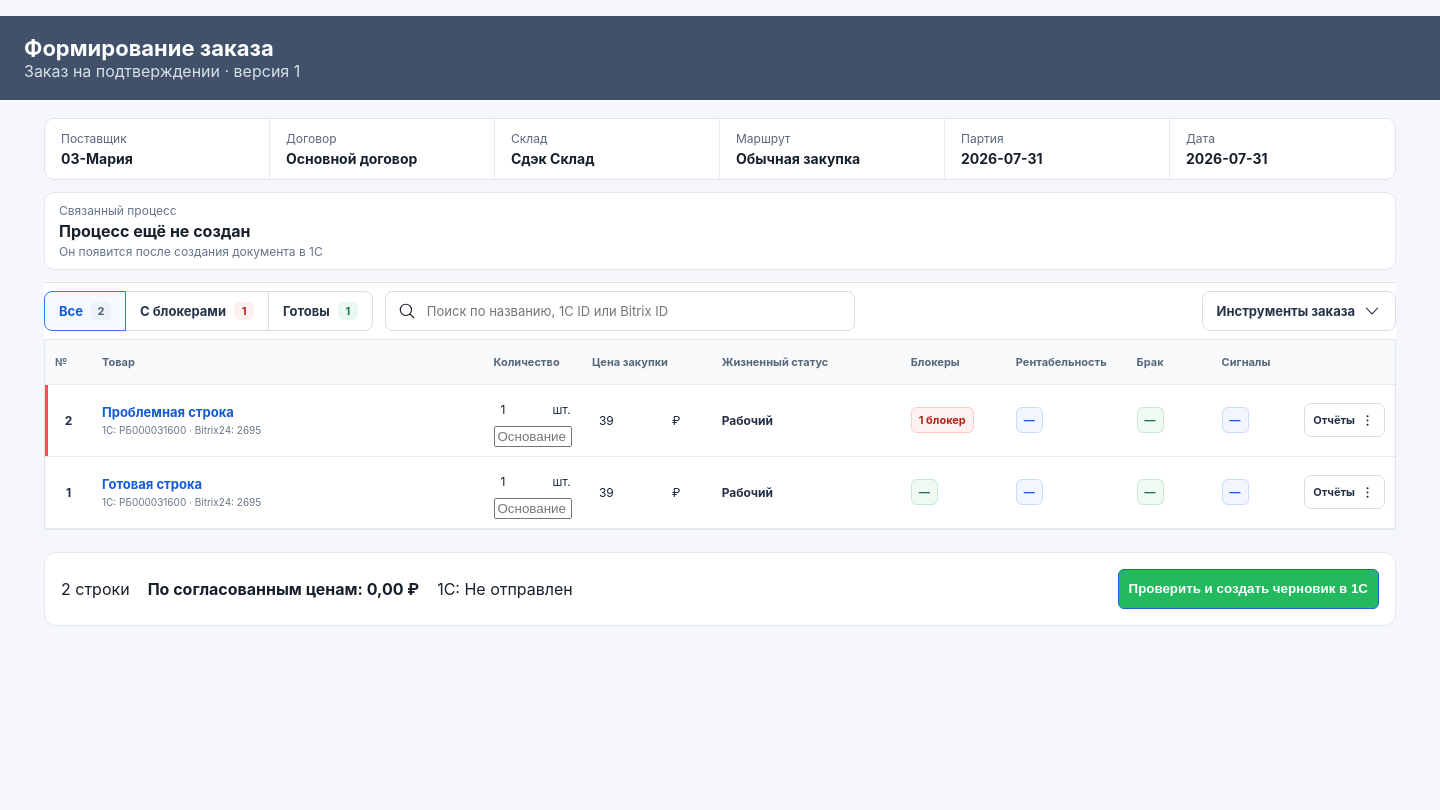
ProcurementOrderFormationApp компактный список и отчёты › фильтрует компактный список по состоянию и поисковой строке
Step 1. Click the button named "С блокерами1" → click(197, 311), box [125,291,269,331]
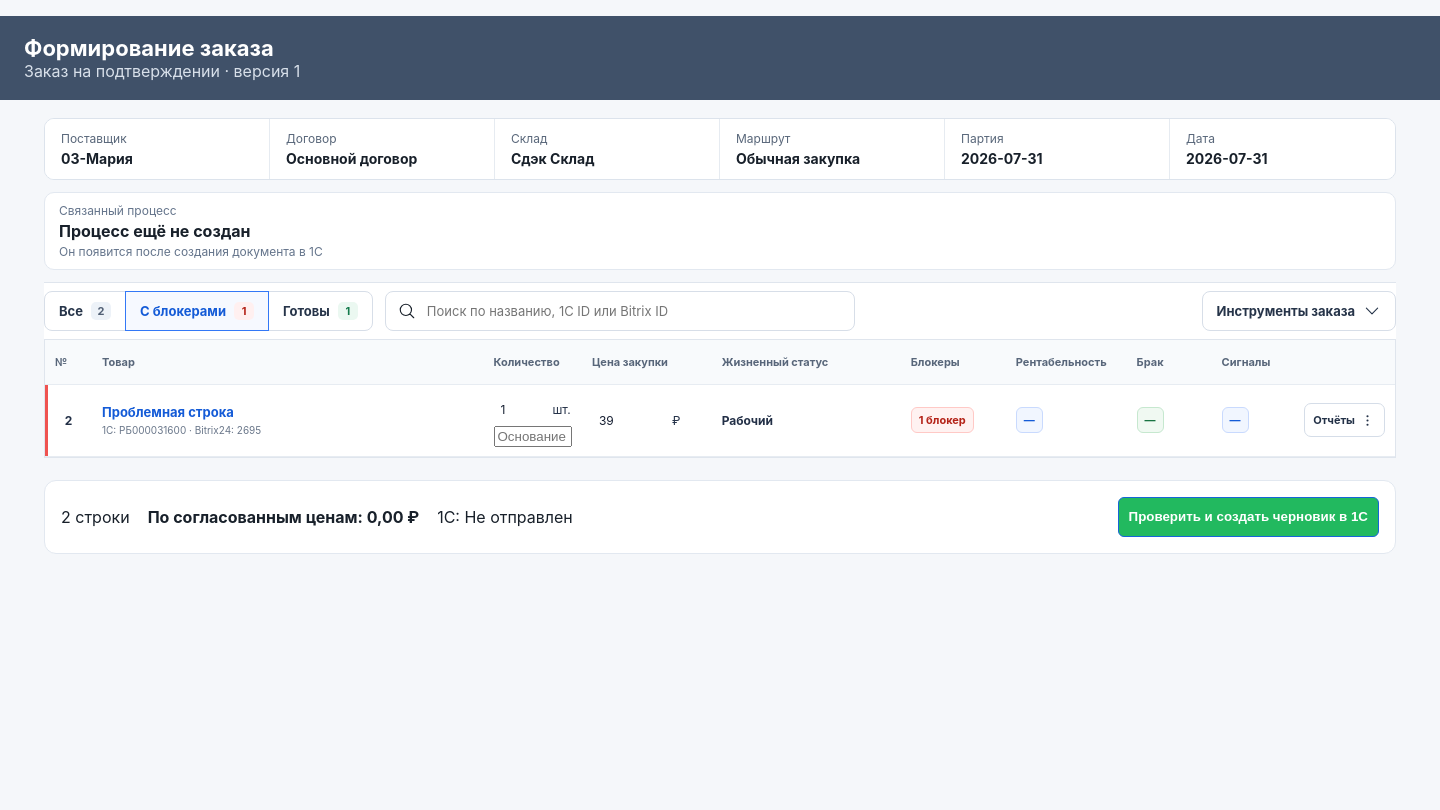
Check: the link "Проблемная строка" is shown, box [102,404,234,420]
Check: the link "Готовая строка" is gone
Step 2. Click the button named "Все2" → click(85, 311), box [44,291,126,331]
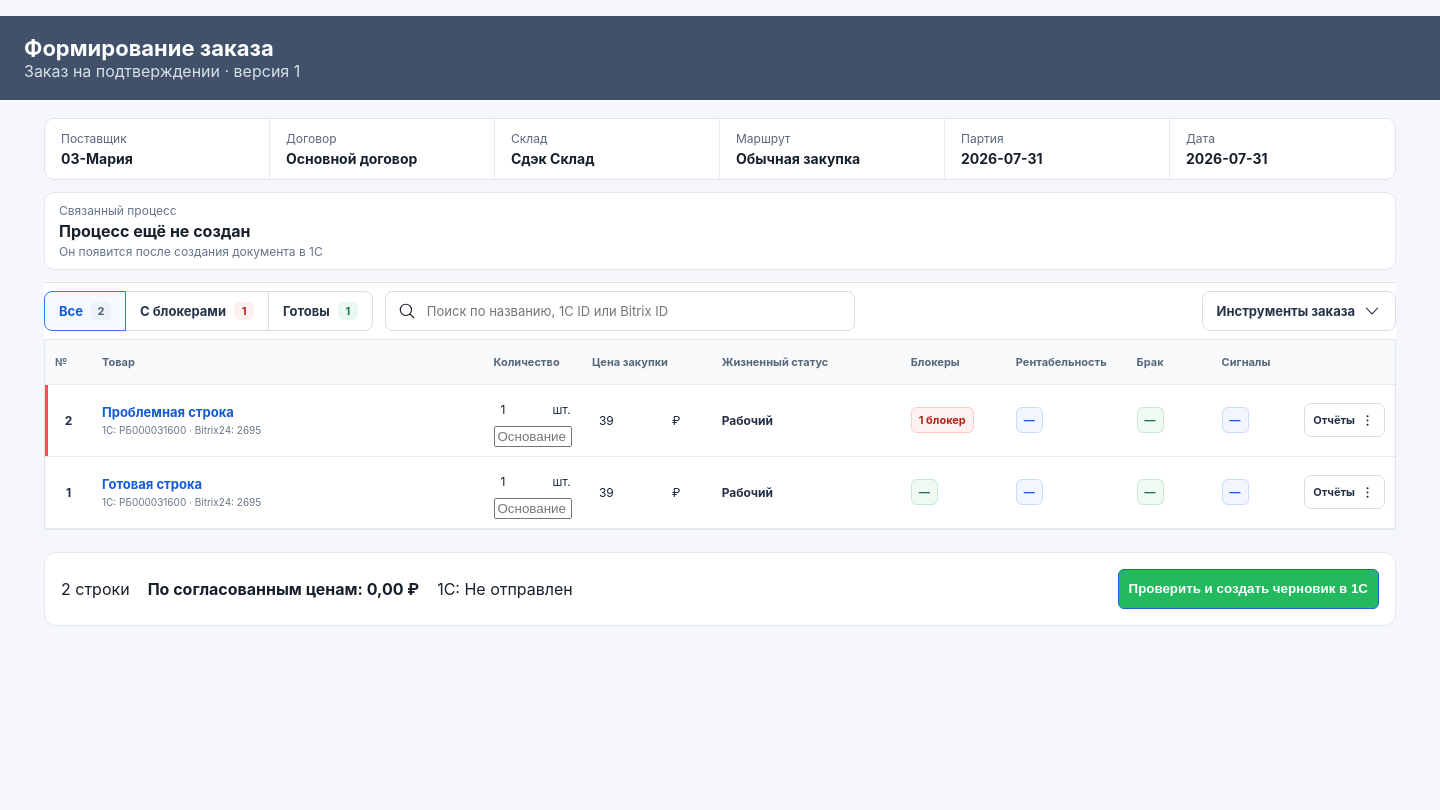
Step 3. Type "Готовая" into the search field named "Поиск товаров" → (633, 311), box [425,302,842,320]
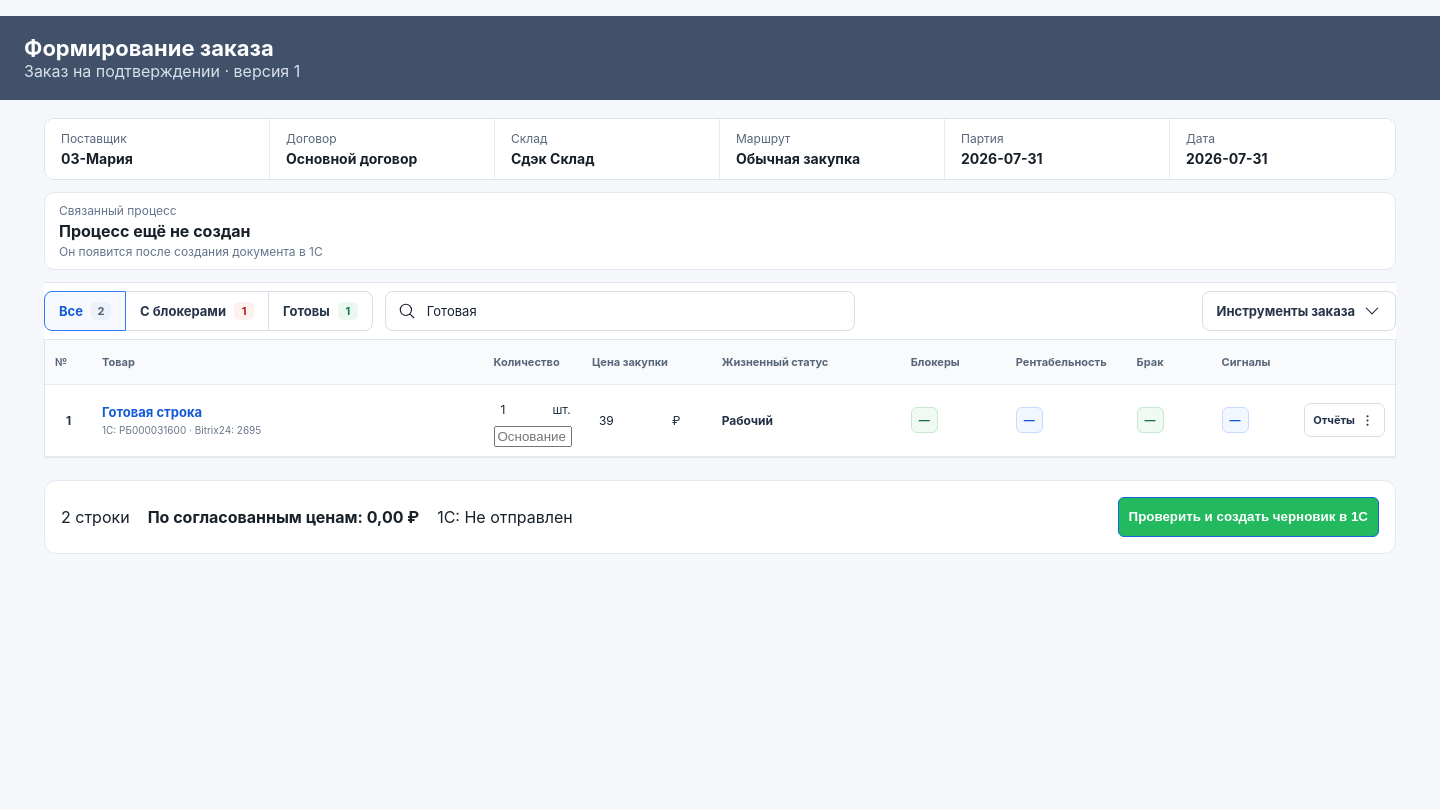
Check: the link "Готовая строка" is shown, box [102,404,202,420]
Check: the link "Проблемная строка" is gone
